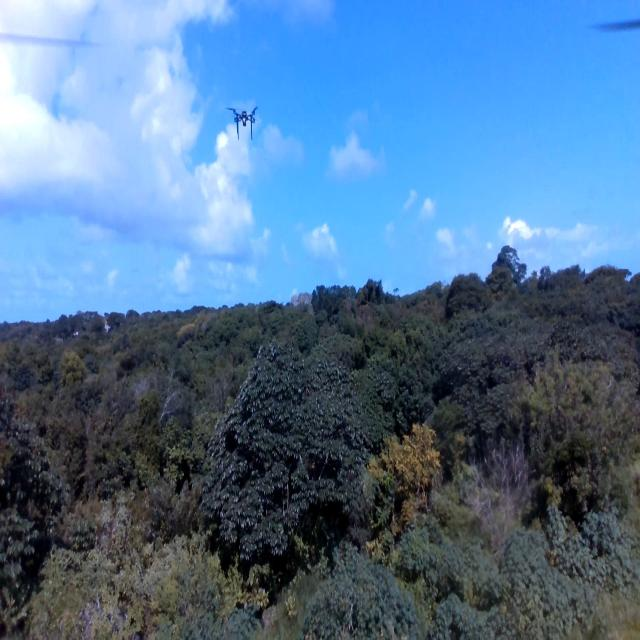-uav-: (227, 80, 265, 163)
